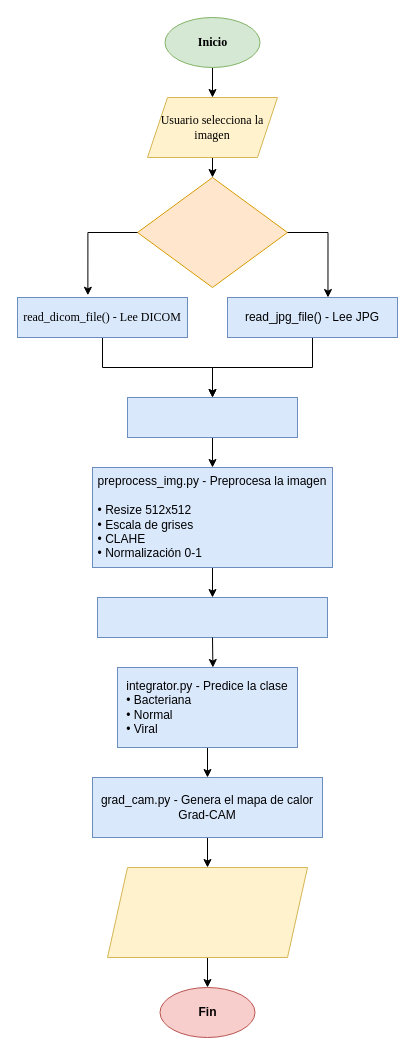
The diagram is 415 pixels wide and 1055 high, and some of its shapes have lost their labels. The shapes that lost their labels are listed below. From the top down, each one's box as (x1, y1, x2, y2) in pixels, then its label:
(136, 176, 288, 288): ¿La Imagen es DICOM O JPG?
(126, 396, 298, 438): read_img.py - Lee la imagen
(96, 596, 328, 638): load_model.py - Carga el modelo de IA
(106, 866, 308, 958): main.py - Muestra resultados • Clase predicha • Probabilidad • Mapa de calor
